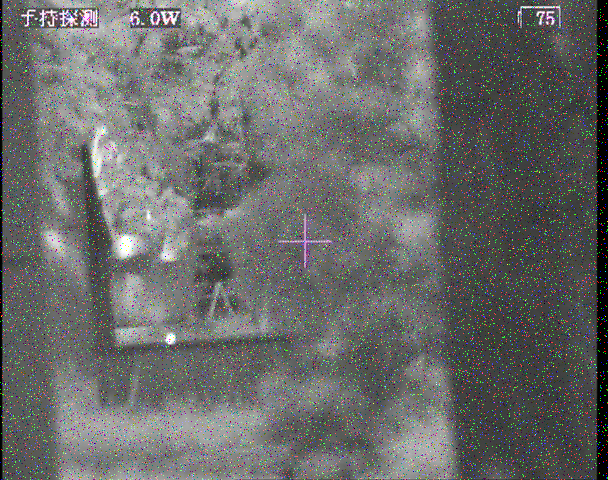my: (164, 331, 178, 345)
